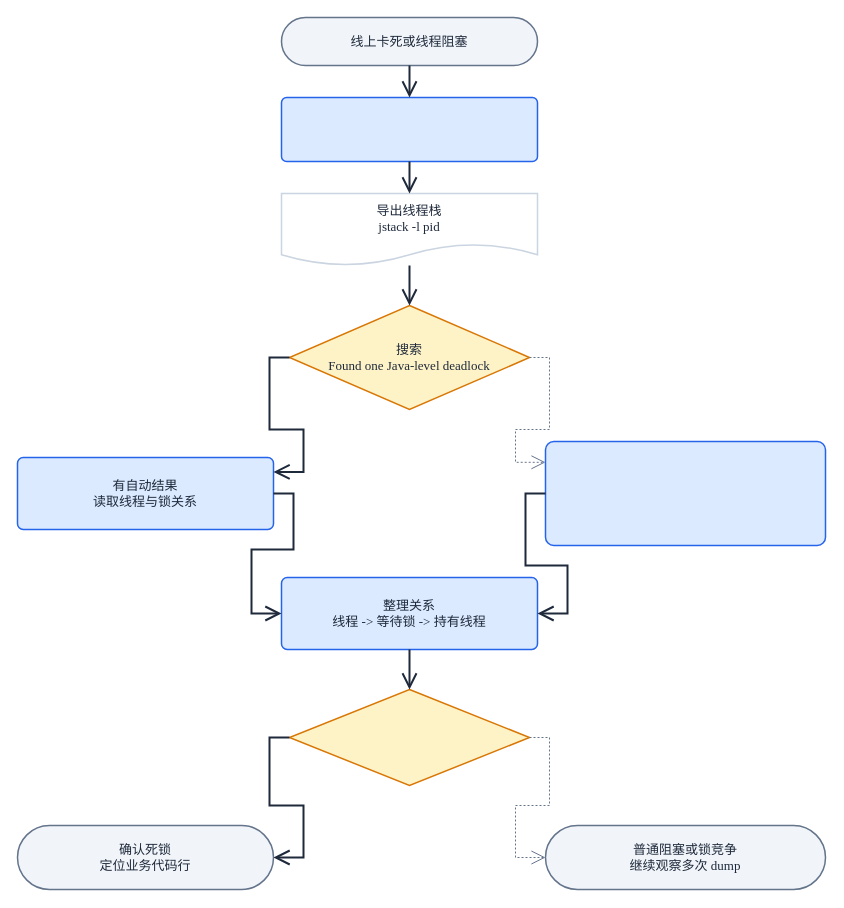
Some shapes in this 844 by 908 pixel diagram are drawn without their labels. The shapes that lost their labels are listed below. From the top down, each one's box as (x1, y1, x2, y2) in pixels, then its label:
(280, 96, 538, 162): 定位进程 jps -l
(544, 440, 826, 546): 无自动结果 人工搜索关键字 BLOCKED / waiting to lock parking to wait for
(288, 688, 530, 786): 是否形成等待环？
